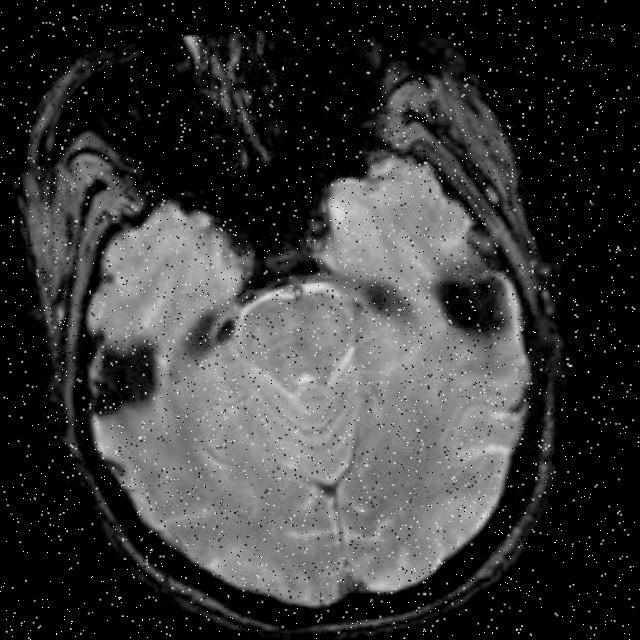EMCI: (416, 229, 562, 361), (80, 288, 192, 418), (327, 238, 425, 338), (202, 290, 250, 356)
